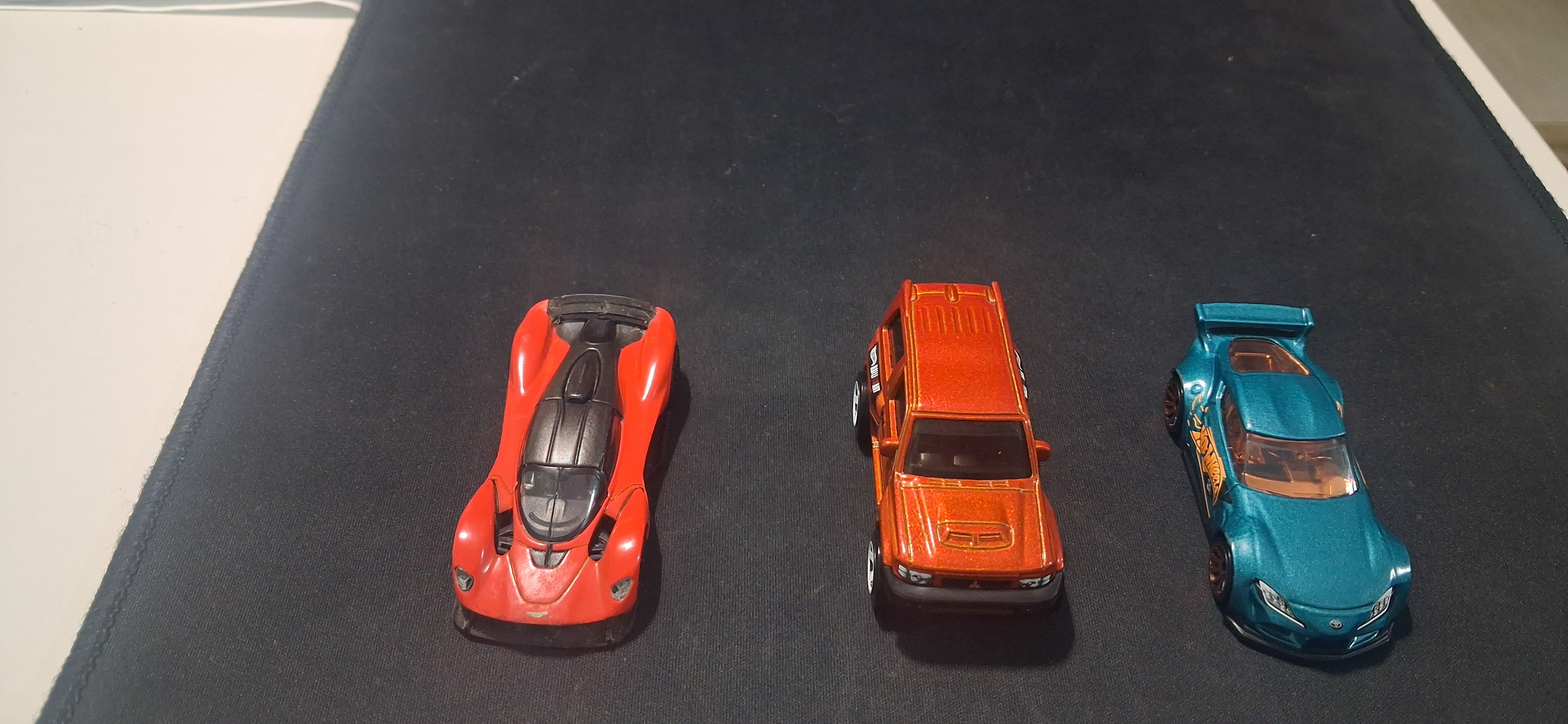Aston_Martin_Valkyrie: (462, 238, 713, 677)
Mitsubishi_Pajero_Evolution: (810, 266, 1083, 653)
Toyota_GR_Supra: (1129, 287, 1436, 672)
